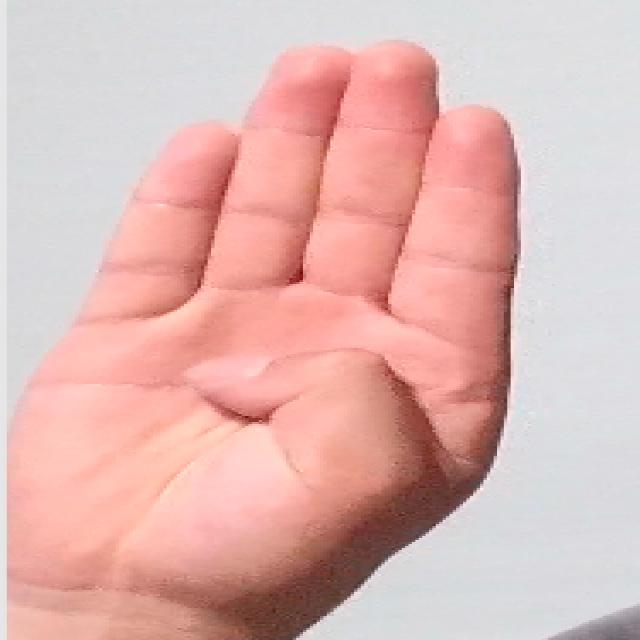B: (0, 28, 536, 609)
